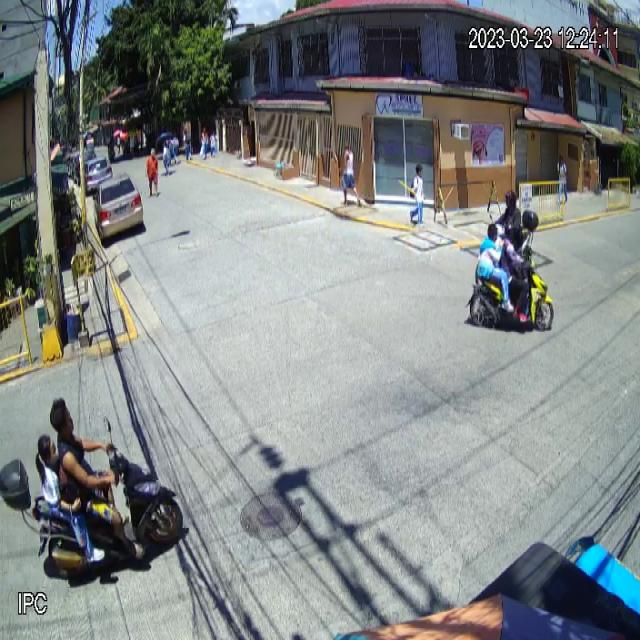Motorcycle: (1, 414, 184, 578), (464, 244, 554, 334)
